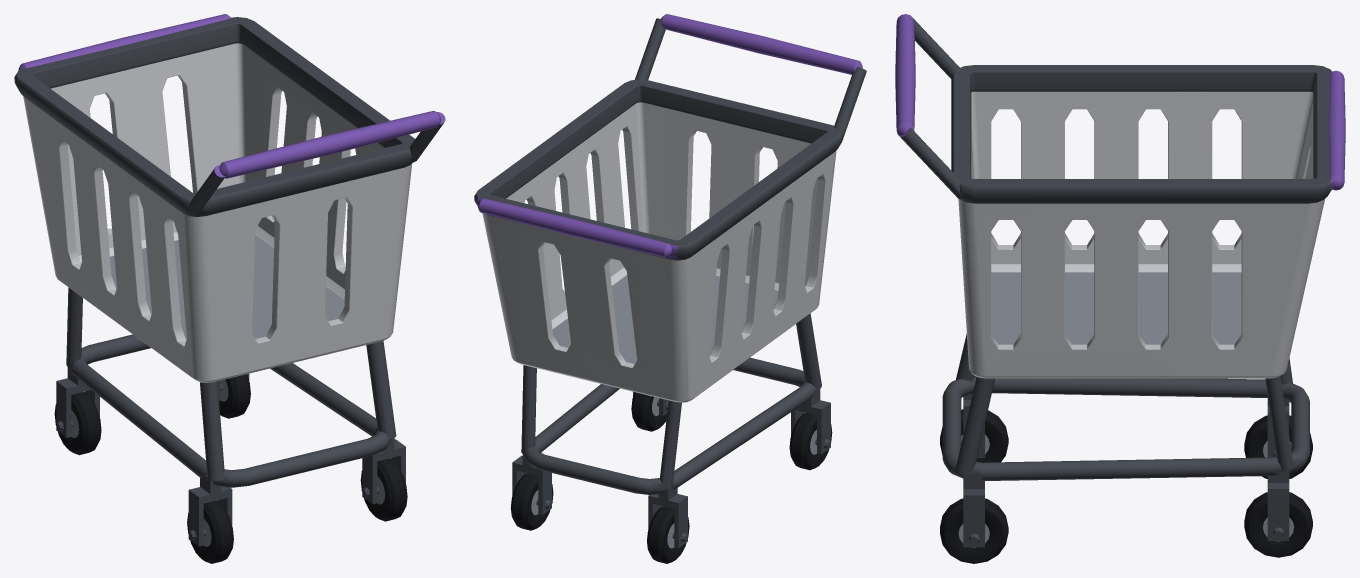
File: w_pj_cart.glb
3 renders of one model, left to right at view 1: azimuth 30°, elevation 25°; view 2: azimuth 150°, elevation 25°; view 3: azimuth 270°, elevation 25°, orthographic. The views are drawn at different scales.
Parts seen in each view (by area): view 1: cart_wzA, cart_wzB, cart_wzN, cart_wzN.001, wheel_fl_wzN.001, wheel_rl_wzN, wheel_rr_wzN, wheel_fr_wzN.001; view 2: cart_wzA, cart_wzB, cart_wzN, cart_wzN.001, wheel_fr_wzN.001, wheel_fl_wzN.001, wheel_rl_wzN, wheel_rr_wzN; view 3: cart_wzA, cart_wzB, cart_wzN.001, cart_wzN, wheel_fr_wzN.001, wheel_rr_wzN, wheel_rl_wzN, wheel_fl_wzN.001.
Boxes of the visible parts, left/top/right/bottom form: cart_wzA: left=23, top=43, right=412, bottom=382; cart_wzB: left=14, top=17, right=443, bottom=546; cart_wzN: left=18, top=14, right=445, bottom=178; cart_wzN.001: left=110, top=235, right=344, bottom=339; wheel_fl_wzN.001: left=54, top=392, right=101, bottom=455; wheel_rl_wzN: left=187, top=500, right=233, bottom=563; wheel_rr_wzN: left=360, top=458, right=407, bottom=521; wheel_fr_wzN.001: left=219, top=374, right=250, bottom=418; cart_wzA: left=482, top=102, right=836, bottom=402; cart_wzB: left=474, top=18, right=866, bottom=548; cart_wzN: left=476, top=14, right=862, bottom=258; cart_wzN.001: left=552, top=275, right=778, bottom=363; wheel_fr_wzN.001: left=510, top=473, right=553, bottom=530; wheel_fl_wzN.001: left=647, top=506, right=689, bottom=563; wheel_rl_wzN: left=789, top=412, right=832, bottom=470; wheel_rr_wzN: left=631, top=392, right=666, bottom=431; cart_wzA: left=958, top=91, right=1324, bottom=378; cart_wzB: left=901, top=18, right=1331, bottom=547; cart_wzN.001: left=991, top=272, right=1241, bottom=344; cart_wzN: left=895, top=14, right=1345, bottom=190; wheel_fr_wzN.001: left=1244, top=492, right=1312, bottom=557; wheel_rr_wzN: left=940, top=498, right=1008, bottom=563; wheel_rl_wzN: left=940, top=409, right=1008, bottom=462; wheel_fl_wzN.001: left=1244, top=415, right=1312, bottom=478.
Bounding box in the file's own units: 0.5921 × 1.01 × 0.918.
